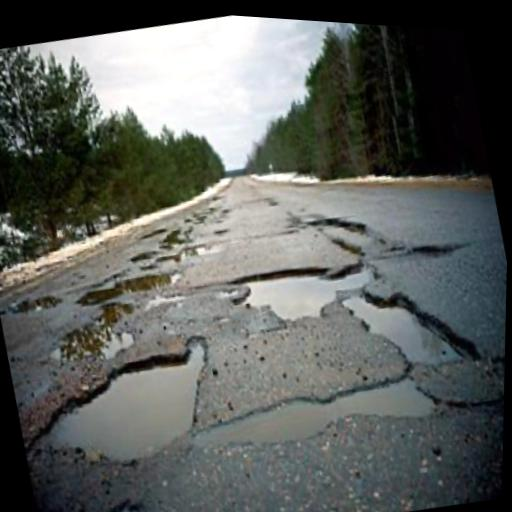pothole: (6, 315, 233, 493), (187, 349, 445, 476), (336, 266, 486, 387), (225, 248, 385, 342), (42, 289, 145, 372), (71, 255, 187, 311), (305, 199, 389, 270), (406, 231, 460, 266), (5, 285, 64, 317), (89, 489, 150, 512)
